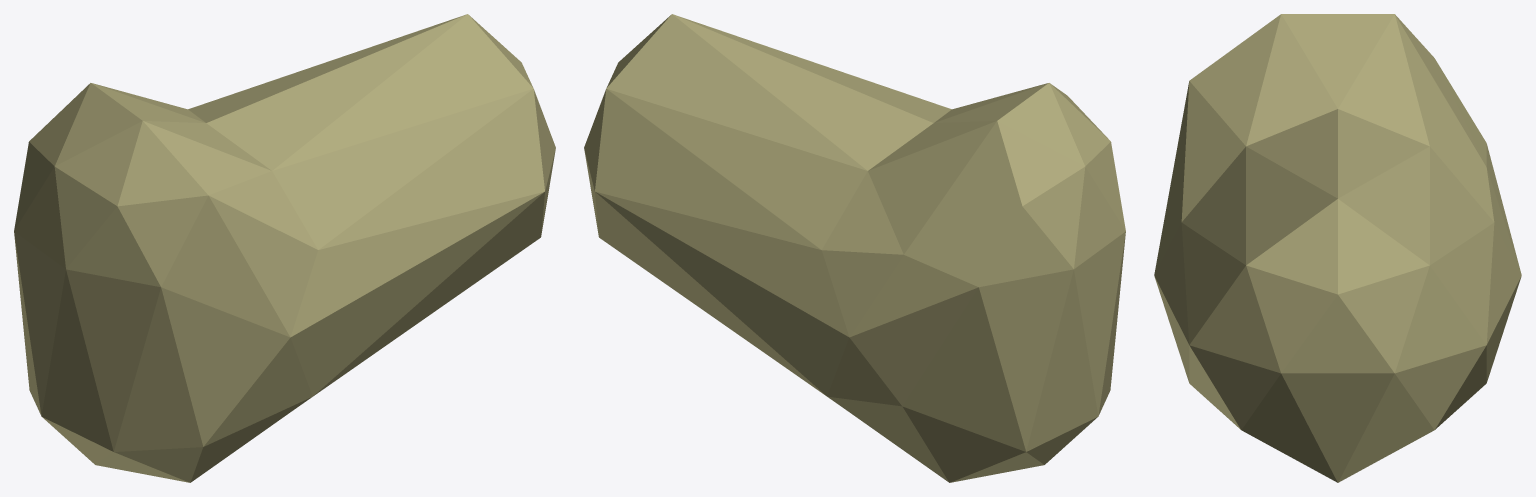
3 views of the same model, side by side, from view 1: azimuth 30°, elevation 25°; view 2: azimuth 150°, elevation 25°; view 3: azimuth 270°, elevation 25° (orthographic). The views are drawn at different scales.
Visible parts, largest first — view 1: Asteroid 1; view 2: Asteroid 1; view 3: Asteroid 1.
Part boxes in pixels (left/top/right/bottom): Asteroid 1: left=14, top=14, right=555, bottom=482; Asteroid 1: left=584, top=14, right=1125, bottom=482; Asteroid 1: left=1154, top=14, right=1521, bottom=482.
Size of the model in its own units: 336 by 251 by 200.
